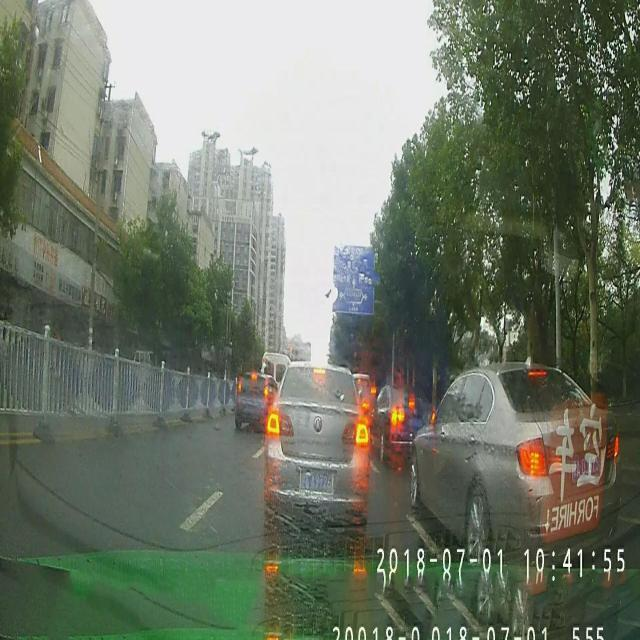car: (410, 357, 622, 558), (263, 360, 371, 540), (364, 386, 436, 459), (235, 365, 278, 435), (260, 352, 290, 382)
